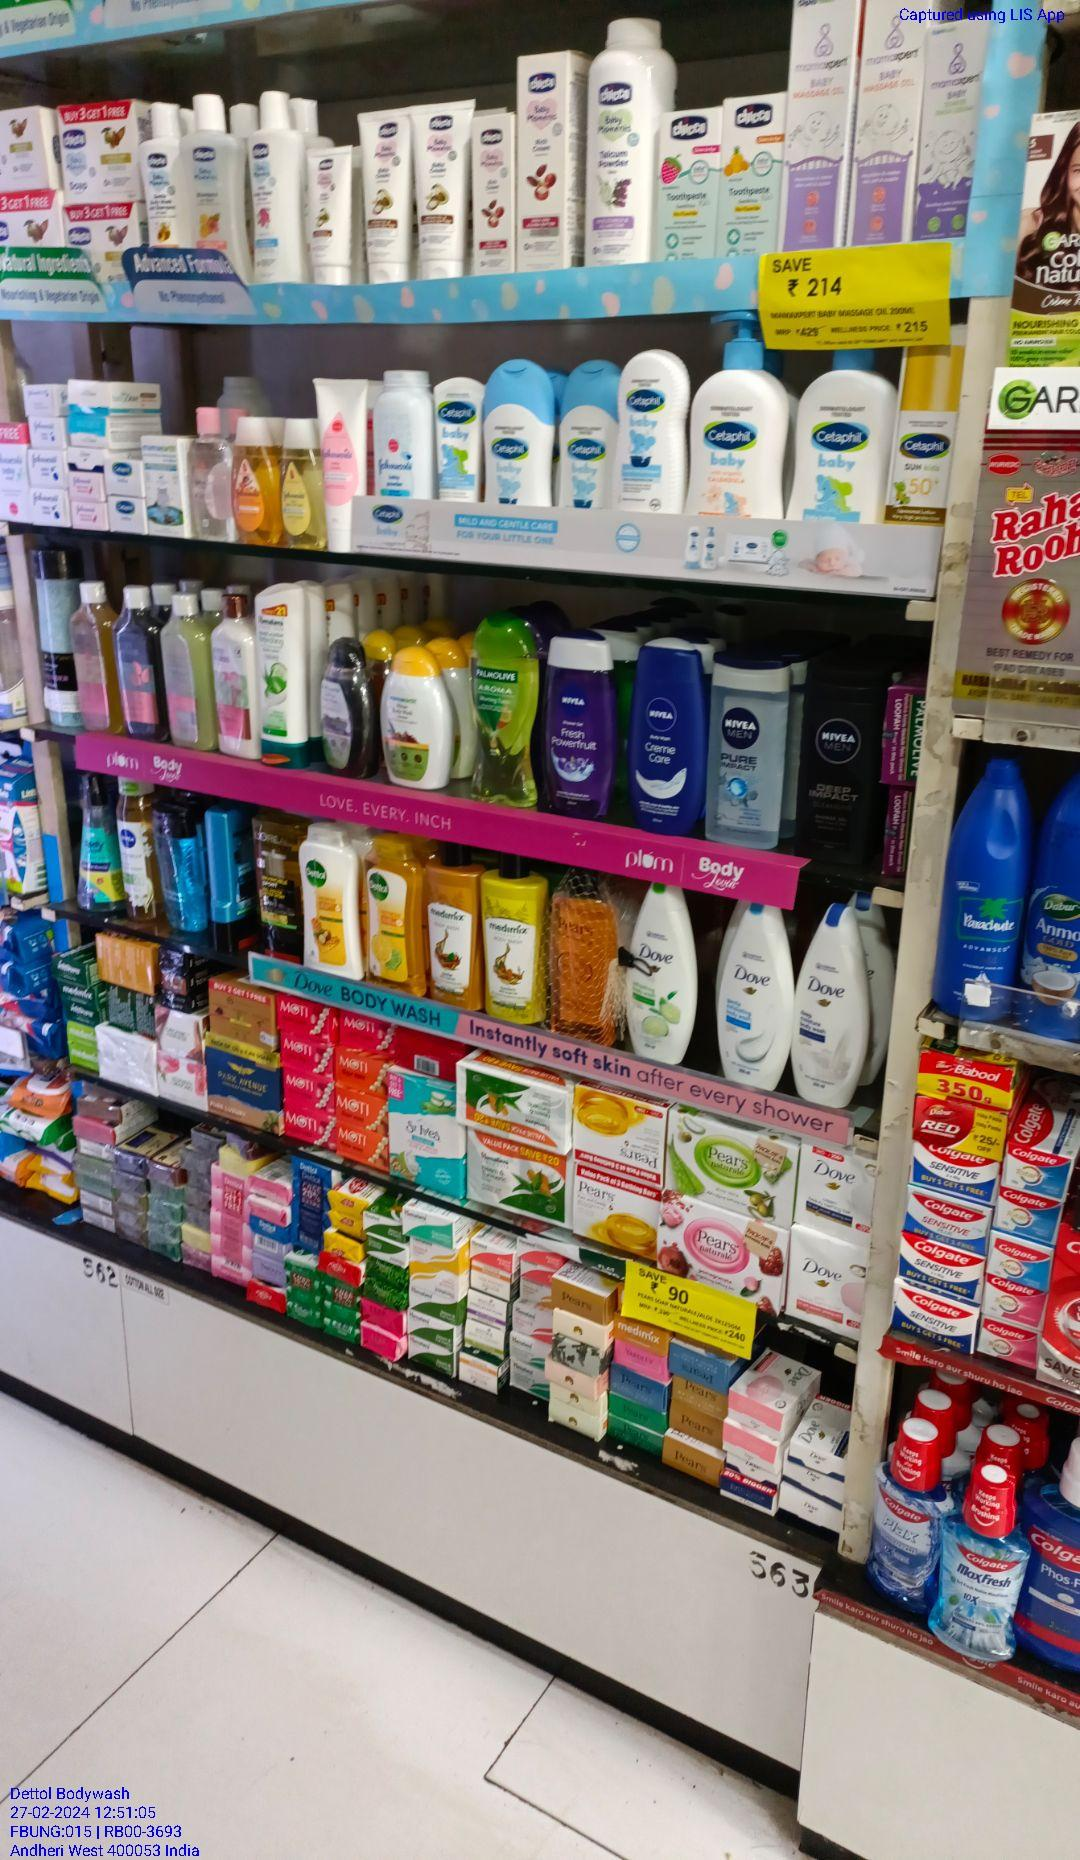Dettol_Bodywash_Refresh: (360, 836, 419, 997)
Dettol_Nourish_Body_Wash_250ML: (296, 823, 355, 976)
Dove_Deep_Moisture_Body_Wash_250ML: (793, 905, 860, 1104)
Dove_Gentle_Exfoliating_Body_Wash_250ML: (721, 900, 786, 1089)
Dove_Refreshing_Body_Wash_250ML: (627, 883, 690, 1064)
Nivea_Creme_Care_Body_Wash_250ML: (627, 639, 699, 834)
Nivea_Shower_Gel_Fresh_Powerfruit_250ML: (540, 627, 607, 819)
Palmolive_Aroma_Morning_Tonic_Shower_Gel_250ML: (469, 614, 534, 809)
